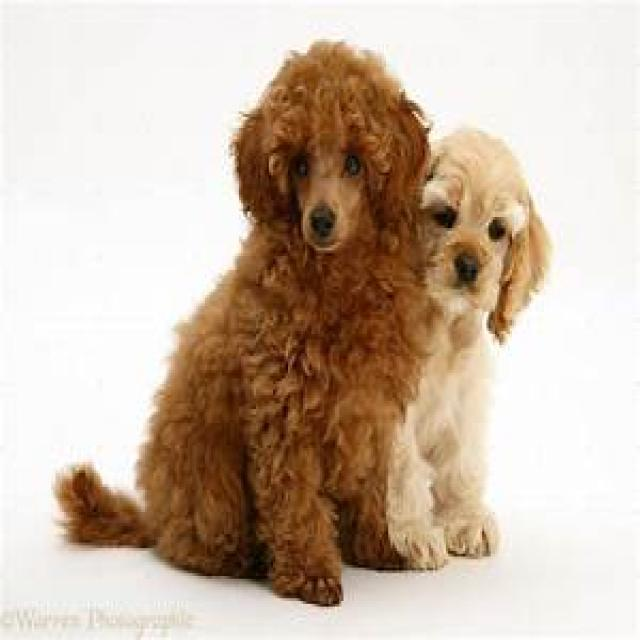animal: (51, 36, 448, 607), (400, 132, 551, 564)
